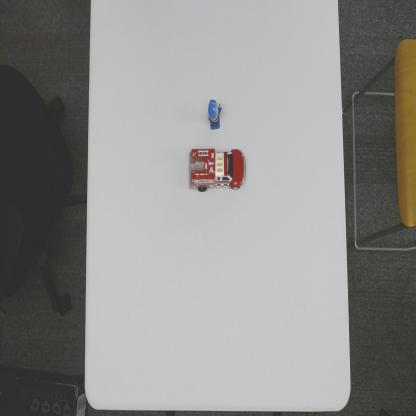Firetruck: (188, 148, 246, 192)
